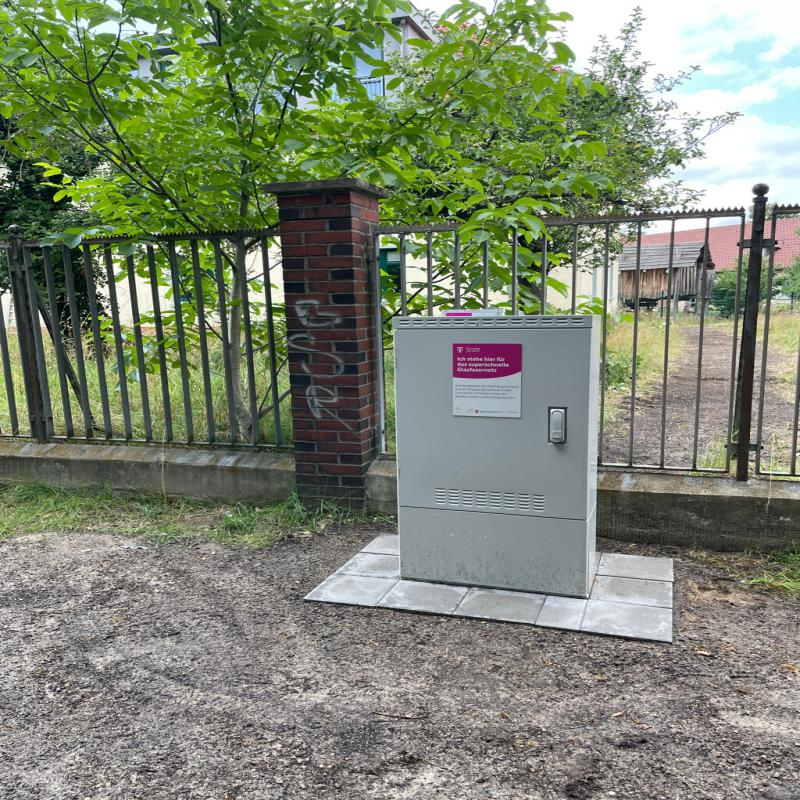NT-Gehause: (392, 315, 599, 598)
Steaker: (451, 344, 519, 416)
